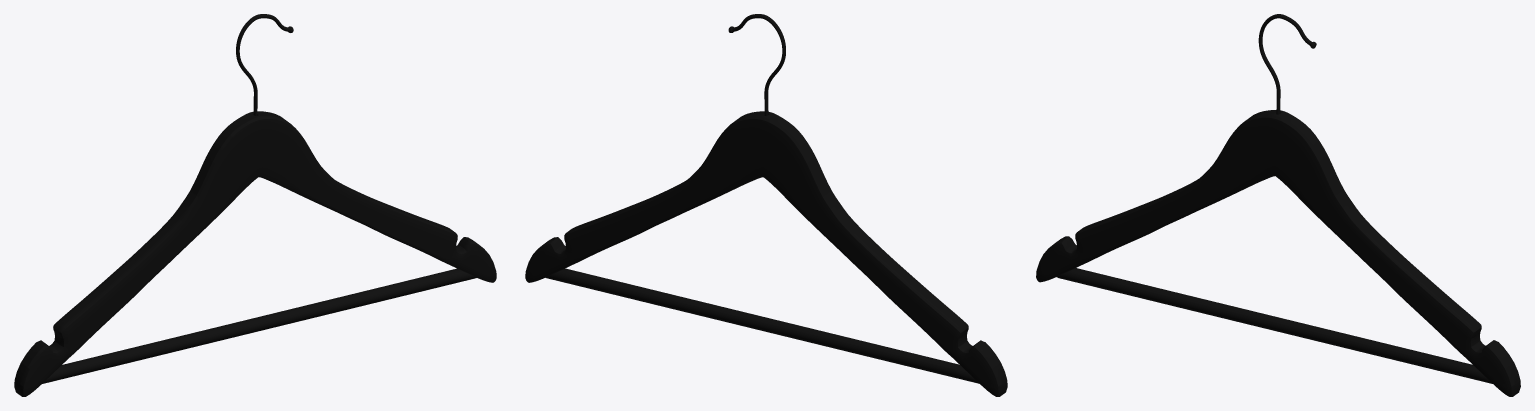
The model's file is wieszak 259.fbx.
The picture shows the model from 3 angles, left to right: view 1: azimuth 30°, elevation 25°; view 2: azimuth 150°, elevation 25°; view 3: azimuth 330°, elevation 25°; orthographic projection.
Visible parts, largest first — view 1: wieszak 259; view 2: wieszak 259; view 3: wieszak 259.
Boxes of the visible parts, x1=… form: wieszak 259: x1=14, y1=14, x2=496, y2=396; wieszak 259: x1=525, y1=14, x2=1007, y2=396; wieszak 259: x1=1036, y1=14, x2=1520, y2=396.
Bounding box in the file's own units: 11.1 × 7.19 × 0.4045.
